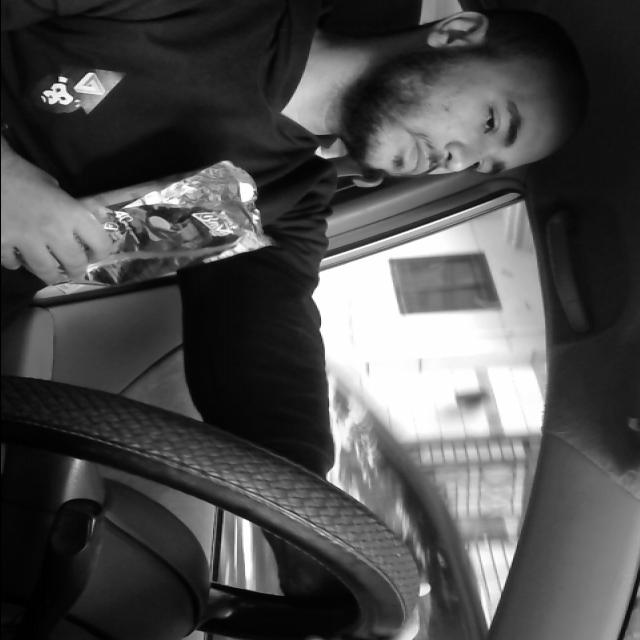eating: (38, 158, 280, 302)
